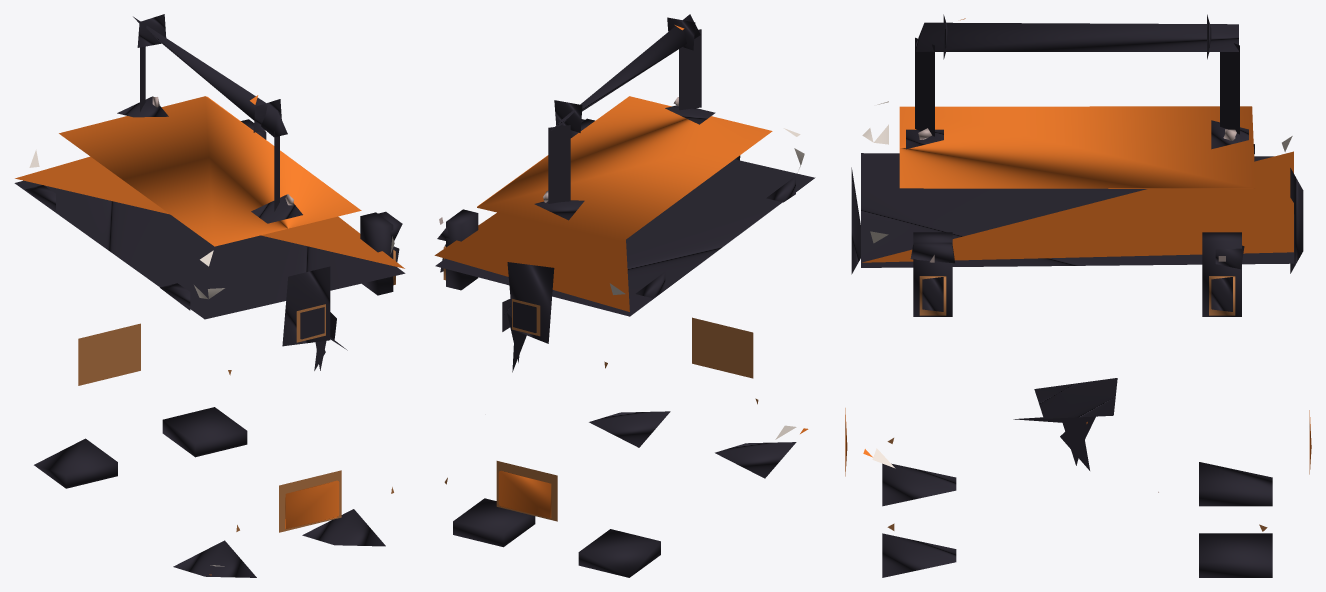
3 renders of one model, left to right at view 1: azimuth 30°, elevation 25°; view 2: azimuth 150°, elevation 25°; view 3: azimuth 270°, elevation 25°, orthographic. The views are drawn at different scales.
Bounding box in the file's own units: 0.5393 × 0.9929 × 0.827.
